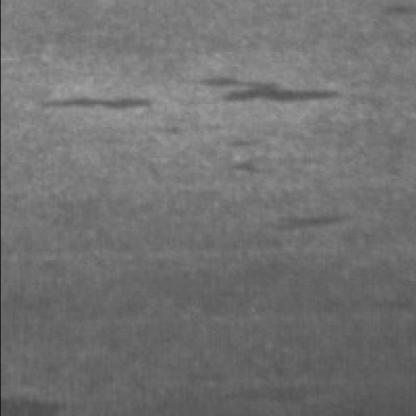inclusion: (193, 71, 339, 102), (33, 87, 152, 115), (258, 206, 347, 239), (218, 131, 262, 175)
